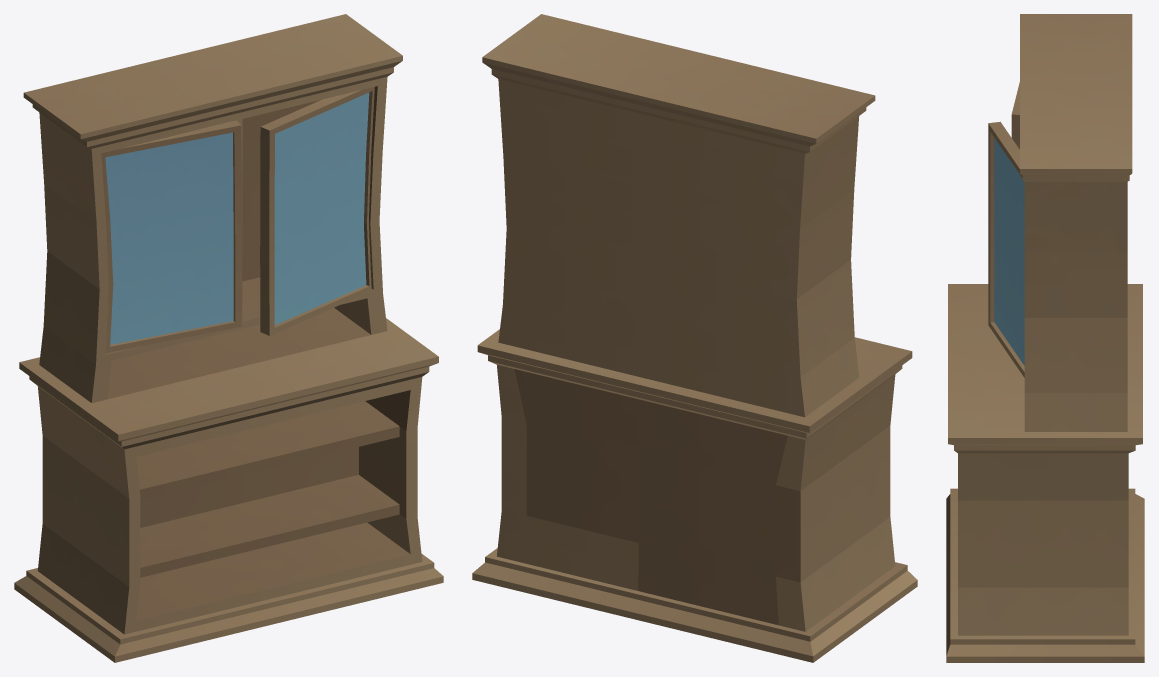
Rendered from cupboard_1c.dae.
3 views of the same model, side by side, from view 1: azimuth 30°, elevation 25°; view 2: azimuth 150°, elevation 25°; view 3: azimuth 270°, elevation 25° (orthographic). The views are drawn at different scales.
Visible parts, largest first — view 1: cupboard_1c, right_wing.001, left_wing.001; view 2: cupboard_1c; view 3: cupboard_1c, left_wing.001, right_wing.001.
Boxes of the visible parts, x1,y1,x2,y2 form: cupboard_1c: (14,14,443,662); right_wing.001: (101,120,242,352); left_wing.001: (260,86,374,335); cupboard_1c: (472,14,917,662); cupboard_1c: (946,14,1144,662); left_wing.001: (988,121,1024,377); right_wing.001: (1011,82,1019,149).
Bounding box in the file's own units: 1.1 × 0.5845 × 1.6.
